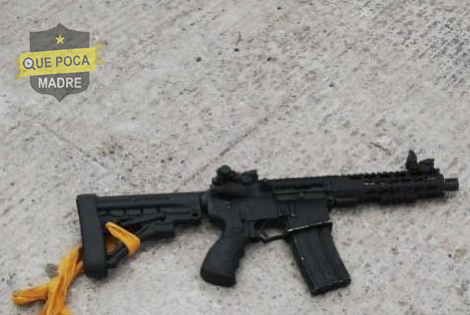Arma Real: (73, 147, 458, 295)
